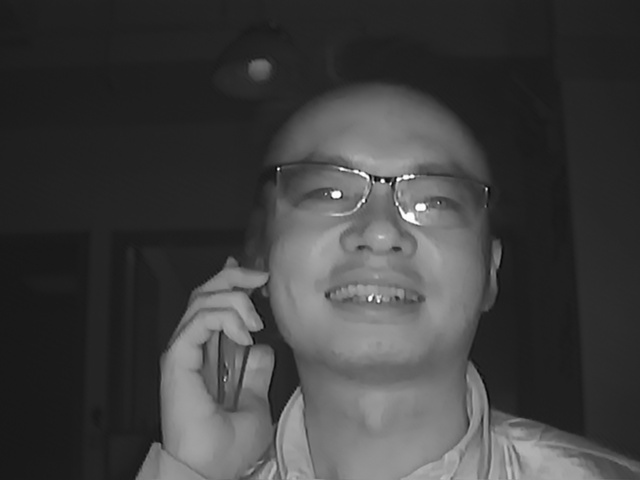hand: (152, 263, 284, 460)
